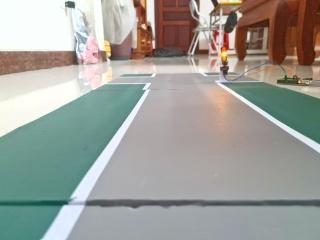yellow: (215, 42, 236, 67)
